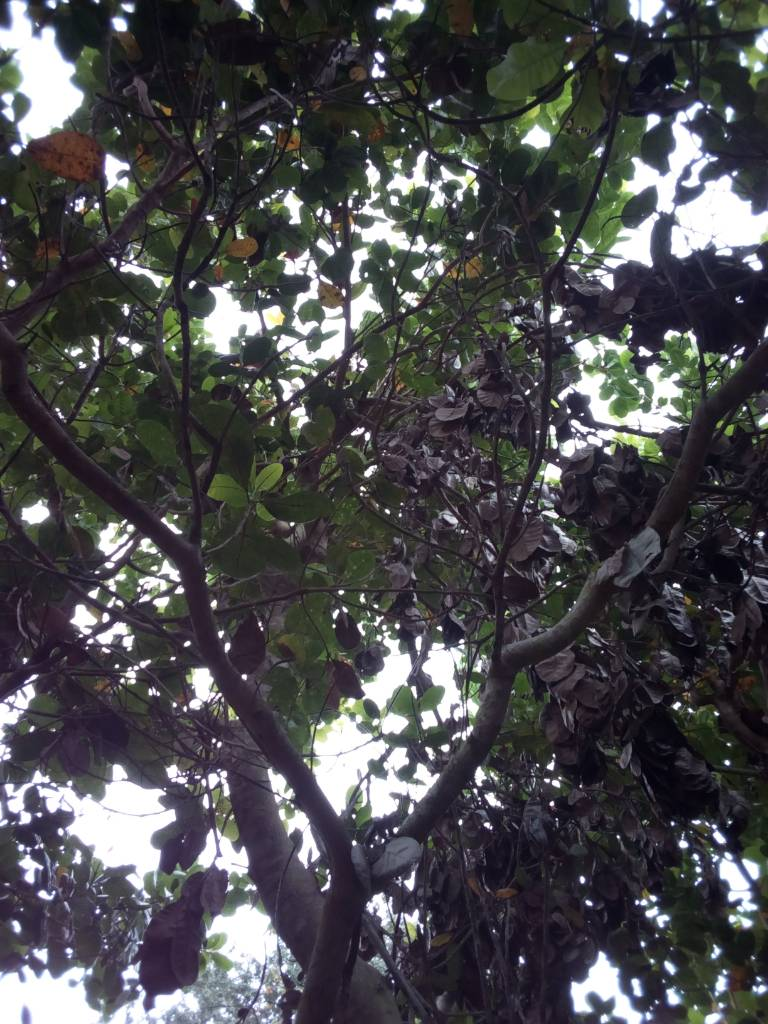Anthracnose: (22, 125, 108, 183)
